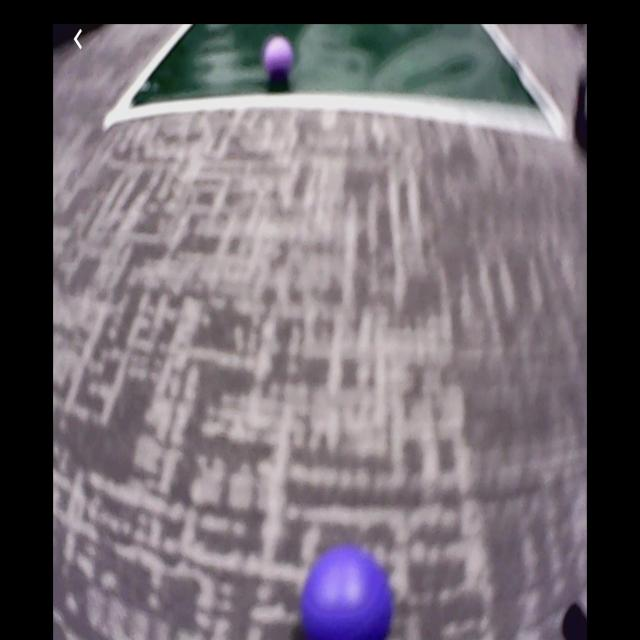ball: (300, 547, 398, 640), (263, 36, 295, 83)
